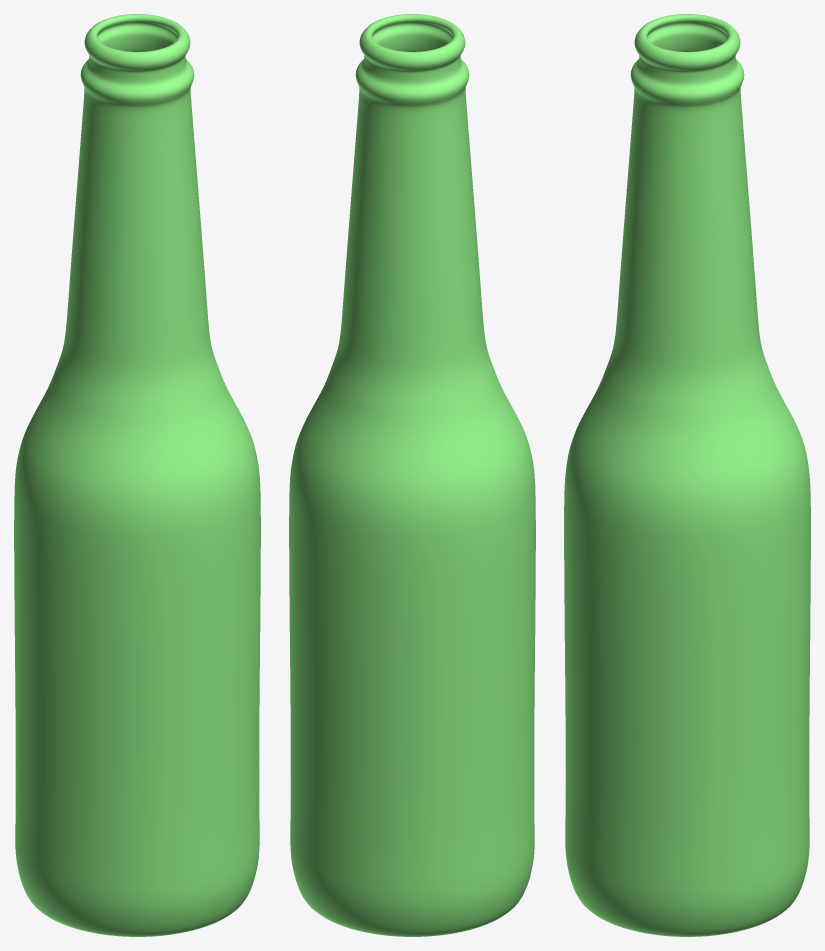
Rendered from glass_bottle.glb.
3 views of the same model, side by side, from view 1: azimuth 30°, elevation 25°; view 2: azimuth 150°, elevation 25°; view 3: azimuth 270°, elevation 25° (orthographic).
Visible parts, largest first — view 1: Circle; view 2: Circle; view 3: Circle.
Part boxes in pixels (left/top/right/bottom): Circle: left=14, top=14, right=260, bottom=936; Circle: left=289, top=14, right=535, bottom=936; Circle: left=564, top=14, right=810, bottom=936.
Size of the model in its own units: 1.23 by 4.71 by 1.23.
